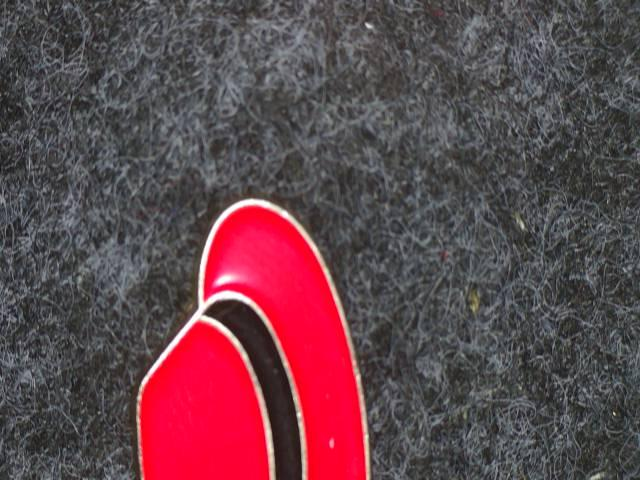Red-Hat: (95, 182, 453, 480)
